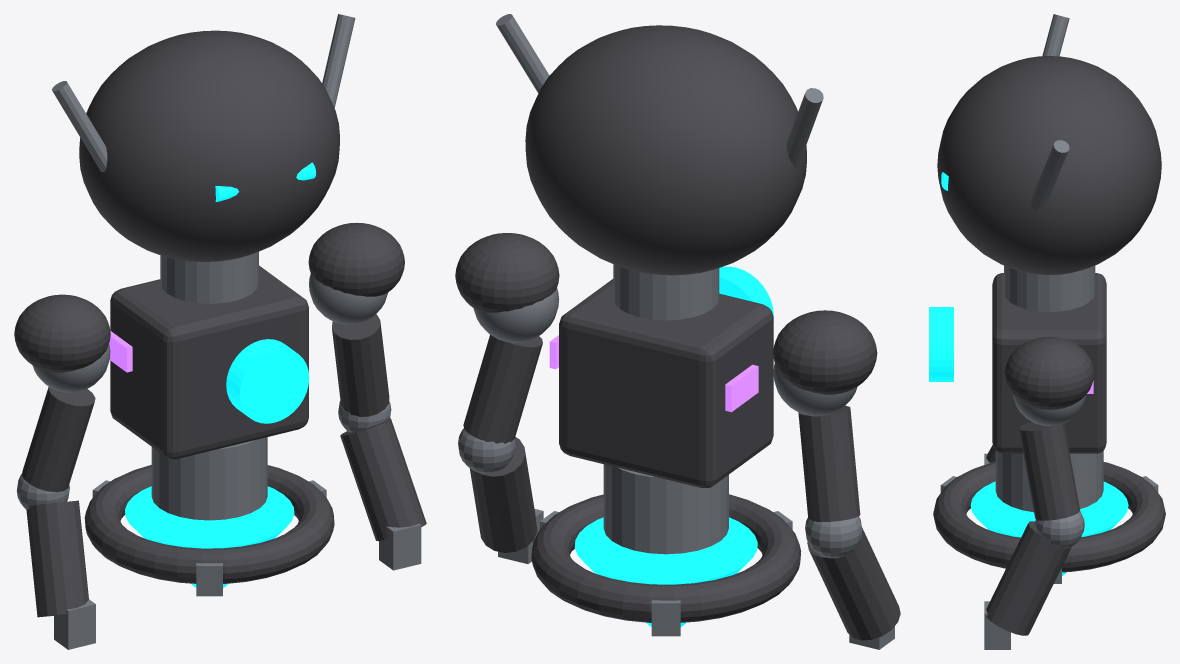
Rendered from mascot.glb.
The picture shows the model from 3 angles, left to right: view 1: azimuth 30°, elevation 25°; view 2: azimuth 150°, elevation 25°; view 3: azimuth 270°, elevation 25°; orthographic projection. The views are drawn at different scales.
Visible parts, largest first — view 1: Mascot_Head_Cranium, Mascot_Torso_Chest, Mascot_Repulsor_Ring, Mascot_Torso_Spine, Mascot_ShoulderGuard_L, Mascot_ArmForearm_L, Mascot_ArmForearm_R, Mascot_Repulsor_IonThruster, Mascot_ShoulderGuard_R, Mascot_Torso_ReactorCore, Mascot_ArmBicep_L, Mascot_ArmBicep_R (+11 smaller); view 2: Mascot_Head_Cranium, Mascot_Torso_Chest, Mascot_Repulsor_Ring, Mascot_Torso_Spine, Mascot_ShoulderGuard_L, Mascot_Repulsor_IonThruster, Mascot_ShoulderGuard_R, Mascot_ArmBicep_L, Mascot_ArmBicep_R, Mascot_ArmForearm_L, Mascot_ArmForearm_R, Mascot_Neck_Joint (+9 smaller); view 3: Mascot_Head_Cranium, Mascot_Torso_Chest, Mascot_Repulsor_Ring, Mascot_ShoulderGuard_R, Mascot_ArmForearm_R, Mascot_ArmBicep_R, Mascot_Repulsor_IonThruster, Mascot_Neck_Joint, Mascot_Torso_Spine, Mascot_Torso_ReactorCore, Mascot_ArmElbow_R, Mascot_Antenna_R (+3 smaller).
Boxes of the visible parts, x1=… form: Mascot_Head_Cranium: x1=79, y1=30, x2=339, y2=261; Mascot_Torso_Chest: x1=110, y1=265, x2=308, y2=458; Mascot_Repulsor_Ring: x1=84, y1=465, x2=334, y2=583; Mascot_Torso_Spine: x1=151, y1=437, x2=267, y2=520; Mascot_ShoulderGuard_L: x1=14, y1=294, x2=110, y2=372; Mascot_ArmForearm_L: x1=26, y1=500, x2=88, y2=617; Mascot_ArmForearm_R: x1=340, y1=418, x2=426, y2=541; Mascot_Repulsor_IonThruster: x1=125, y1=486, x2=294, y2=587; Mascot_ShoulderGuard_R: x1=308, y1=222, x2=404, y2=296; Mascot_Torso_ReactorCore: x1=226, y1=339, x2=309, y2=423; Mascot_ArmBicep_L: x1=22, y1=386, x2=95, y2=492; Mascot_ArmBicep_R: x1=332, y1=314, x2=389, y2=416; Mascot_Head_Cranium: x1=525, y1=25, x2=806, y2=275; Mascot_Torso_Chest: x1=559, y1=279, x2=773, y2=487; Mascot_Repulsor_Ring: x1=531, y1=494, x2=801, y2=622; Mascot_Torso_Spine: x1=603, y1=464, x2=728, y2=554; Mascot_ShoulderGuard_L: x1=773, y1=310, x2=877, y2=394; Mascot_Repulsor_IonThruster: x1=574, y1=517, x2=757, y2=626; Mascot_ShoulderGuard_R: x1=455, y1=233, x2=559, y2=312; Mascot_ArmBicep_L: x1=798, y1=405, x2=860, y2=521; Mascot_ArmBicep_R: x1=463, y1=334, x2=542, y2=443; Mascot_ArmForearm_L: x1=807, y1=527, x2=900, y2=640; Mascot_ArmForearm_R: x1=469, y1=437, x2=537, y2=552; Mascot_Neck_Joint: x1=613, y1=264, x2=719, y2=320; Mascot_Head_Cranium: x1=937, y1=56, x2=1161, y2=274; Mascot_Torso_Chest: x1=992, y1=273, x2=1106, y2=453; Mascot_Repulsor_Ring: x1=933, y1=462, x2=1165, y2=572; Mascot_ShoulderGuard_R: x1=1004, y1=336, x2=1094, y2=409; Mascot_ArmForearm_R: x1=986, y1=521, x2=1071, y2=635; Mascot_ArmBicep_R: x1=1019, y1=422, x2=1079, y2=520; Mascot_Repulsor_IonThruster: x1=970, y1=481, x2=1128, y2=575; Mascot_Neck_Joint: x1=1004, y1=265, x2=1095, y2=311; Mascot_Torso_Spine: x1=995, y1=451, x2=1103, y2=512; Mascot_Torso_ReactorCore: x1=929, y1=307, x2=953, y2=381; Mascot_ArmElbow_R: x1=1035, y1=511, x2=1084, y2=548; Mascot_Antenna_R: x1=1031, y1=140, x2=1069, y2=210.
Bounding box in the file's own units: 1.98 × 2.67 × 1.14.
